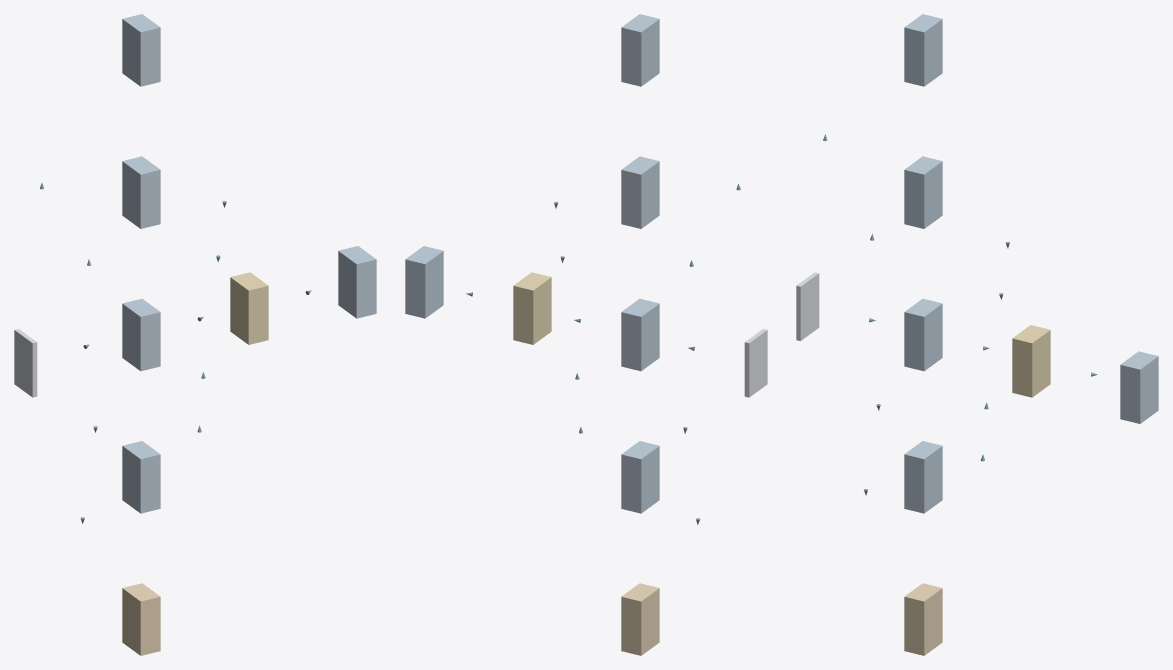
Rendered from aspp.glb.
The picture shows the model from 3 angles, left to right: view 1: azimuth 30°, elevation 25°; view 2: azimuth 150°, elevation 25°; view 3: azimuth 330°, elevation 25°; orthographic projection.
Parts seen in each view (by area): view 1: 3×3 rate12 · 256 channels, 1×1 projection, 3×3 rate6 · 256 channels, 3×3 rate18 · 256 channels, 1×1 Conv · 256 channels, Image pooling · project + resize, Concatenate · 5 branches, Features; view 2: 3×3 rate12 · 256 channels, 1×1 projection, 3×3 rate6 · 256 channels, 3×3 rate18 · 256 channels, 1×1 Conv · 256 channels, Image pooling · project + resize, Concatenate · 5 branches, Features; view 3: 3×3 rate12 · 256 channels, 1×1 projection, 3×3 rate6 · 256 channels, 3×3 rate18 · 256 channels, 1×1 Conv · 256 channels, Image pooling · project + resize, Concatenate · 5 branches, Features.
Part boxes in pixels (x1,y1,x2,y2): 3×3 rate12 · 256 channels: [122, 298, 160, 371]; 1×1 projection: [338, 246, 376, 318]; 3×3 rate6 · 256 channels: [122, 156, 160, 228]; 3×3 rate18 · 256 channels: [122, 441, 160, 513]; 1×1 Conv · 256 channels: [122, 14, 160, 86]; Image pooling · project + resize: [122, 583, 160, 655]; Concatenate · 5 branches: [230, 272, 268, 344]; Features: [14, 329, 37, 397]; 3×3 rate12 · 256 channels: [621, 298, 659, 371]; 1×1 projection: [405, 246, 443, 318]; 3×3 rate6 · 256 channels: [621, 156, 659, 228]; 3×3 rate18 · 256 channels: [621, 441, 659, 513]; 1×1 Conv · 256 channels: [621, 14, 659, 86]; Image pooling · project + resize: [621, 583, 659, 655]; Concatenate · 5 branches: [513, 272, 551, 344]; Features: [744, 329, 767, 397]; 3×3 rate12 · 256 channels: [904, 298, 942, 371]; 1×1 projection: [1120, 351, 1158, 423]; 3×3 rate6 · 256 channels: [904, 156, 942, 228]; 3×3 rate18 · 256 channels: [904, 441, 942, 513]; 1×1 Conv · 256 channels: [904, 14, 942, 86]; Image pooling · project + resize: [904, 583, 942, 655]; Concatenate · 5 branches: [1012, 325, 1050, 397]; Features: [796, 272, 819, 340].
Bounding box in the file's own units: 17.2 × 29.8 × 1.6.
